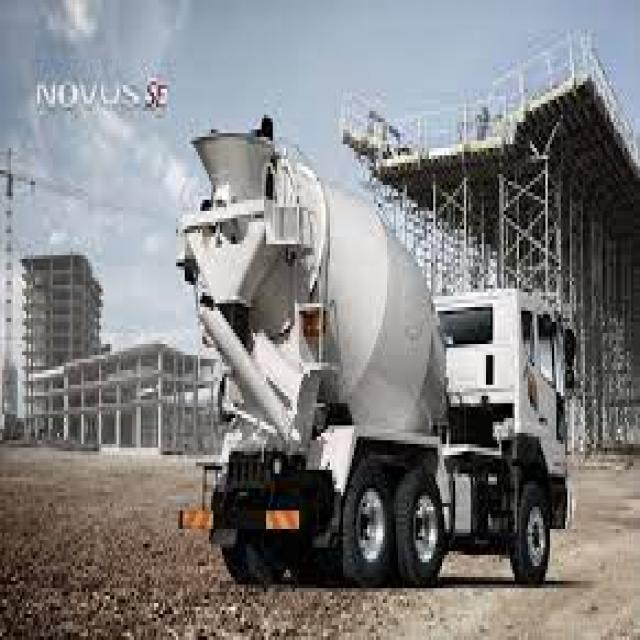Mixer Truck: (174, 113, 580, 587)
